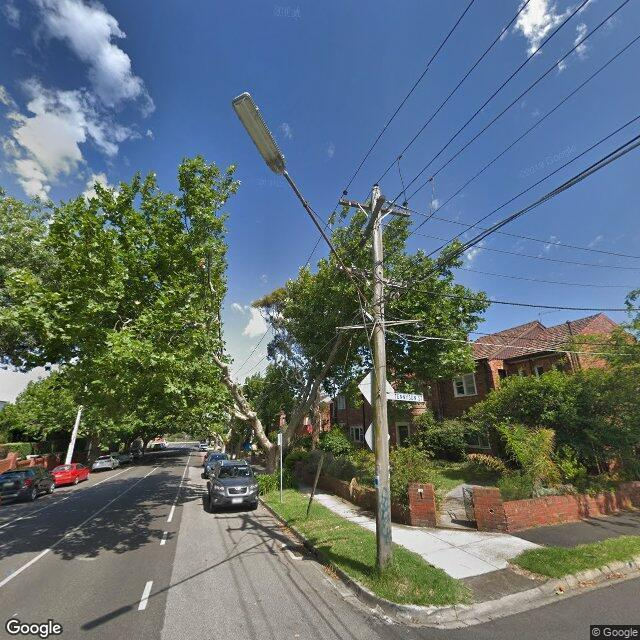crossarm: (338, 188, 412, 218), (361, 194, 387, 242)
streetlight: (233, 91, 375, 319)
timber-pole: (371, 188, 394, 570)
